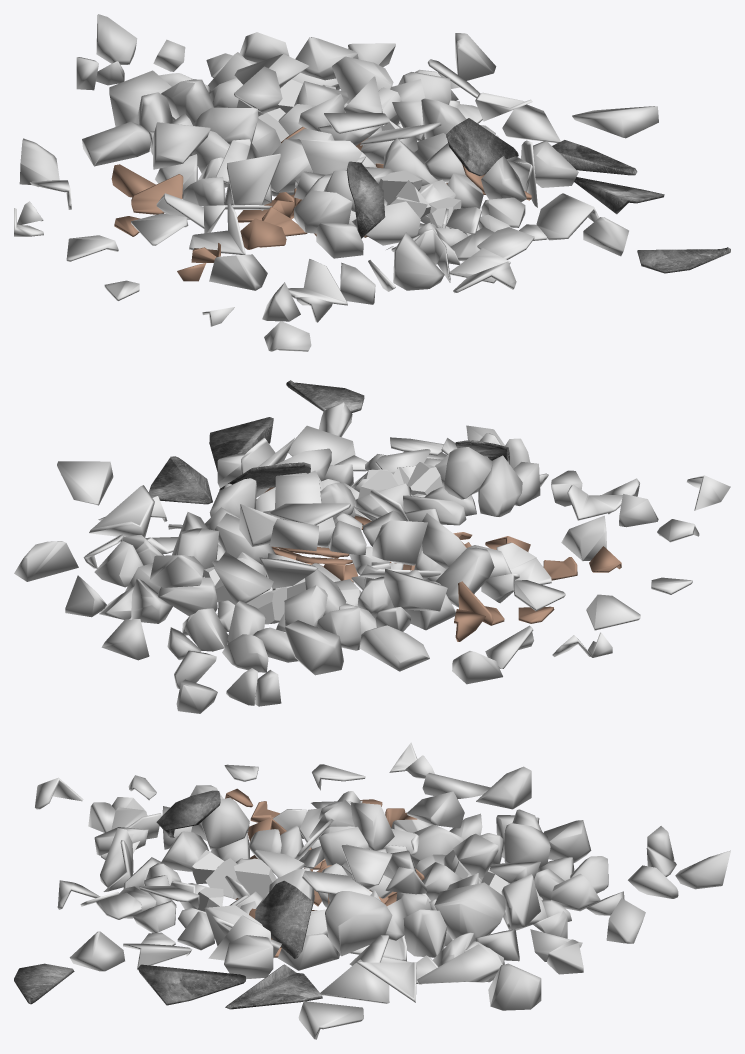
Rendered from debris.glb.
The picture shows the model from 3 angles, top to bottom: view 1: azimuth 30°, elevation 25°; view 2: azimuth 150°, elevation 25°; view 3: azimuth 270°, elevation 25°; orthographic projection. The views are drawn at different scales.
Visible parts, largest first — view 1: Piece_13, Piece_9_3, Piece_42, Piece_42_2, Piece_39, Piece_14, Piece_27, Piece_8, Piece_31_2, Piece_14_3, Piece_30_3, Piece_26 (+70 smaller); view 2: Piece_14_3, Piece_17_4, Piece_9_3, Piece_1, Piece_31_2, Piece_15_2, Piece_42_2, Piece_8, Piece_29_2, Piece_9_2, Piece_17, Piece_11_3 (+68 smaller); view 3: Piece_20_2, Piece_20_3, Piece_13, Piece_17, Piece_17_4, Piece_11_3, Piece_2, Piece_32_2, Piece_32_3, Piece_1_4, Piece_29_2, Piece_29_3 (+69 smaller).
Part boxes in pixels (bbox=[...]): Piece_13: bbox=[446, 118, 518, 176]; Piece_9_3: bbox=[82, 121, 150, 166]; Piece_42: bbox=[227, 153, 280, 205]; Piece_42_2: bbox=[152, 122, 210, 169]; Piece_39: bbox=[393, 232, 444, 290]; Piece_14: bbox=[346, 161, 385, 238]; Piece_27: bbox=[536, 193, 599, 240]; Piece_8: bbox=[572, 106, 658, 138]; Piece_31_2: bbox=[294, 190, 352, 233]; Piece_14_3: bbox=[109, 70, 171, 126]; Piece_30_3: bbox=[194, 107, 258, 143]; Piece_26: bbox=[637, 247, 730, 273]; Piece_14_3: bbox=[285, 620, 343, 675]; Piece_17_4: bbox=[148, 456, 212, 504]; Piece_9_3: bbox=[359, 625, 429, 671]; Piece_1: bbox=[89, 485, 154, 537]; Piece_31_2: bbox=[478, 455, 522, 516]; Piece_15_2: bbox=[372, 520, 427, 563]; Piece_42_2: bbox=[384, 568, 447, 611]; Piece_8: bbox=[57, 461, 113, 505]; Piece_29_2: bbox=[444, 447, 492, 499]; Piece_9_2: bbox=[435, 547, 494, 607]; Piece_17: bbox=[209, 417, 273, 471]; Piece_11_3: bbox=[14, 541, 78, 581]; Piece_20_2: bbox=[325, 891, 392, 956]; Piece_20_3: bbox=[434, 882, 505, 939]; Piece_13: bbox=[255, 880, 312, 958]; Piece_17: bbox=[138, 964, 245, 1005]; Piece_17_4: bbox=[225, 964, 322, 1009]; Piece_11_3: bbox=[488, 963, 541, 1010]; Piece_2: bbox=[417, 944, 502, 984]; Piece_32_2: bbox=[224, 935, 273, 979]; Piece_32_3: bbox=[403, 909, 446, 957]; Piece_1_4: bbox=[320, 959, 389, 1003]; Piece_29_2: bbox=[201, 797, 249, 849]; Piece_29_3: bbox=[504, 823, 550, 867].
Bounding box in the file's own units: 9.86 × 1.36 × 10.72.
Materials: 33 (5 with a texture image).
